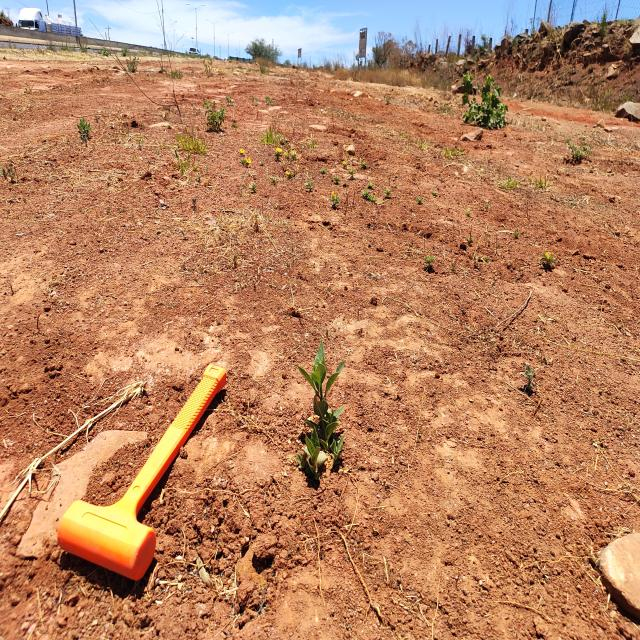Orange_hammer: (56, 360, 228, 582)
